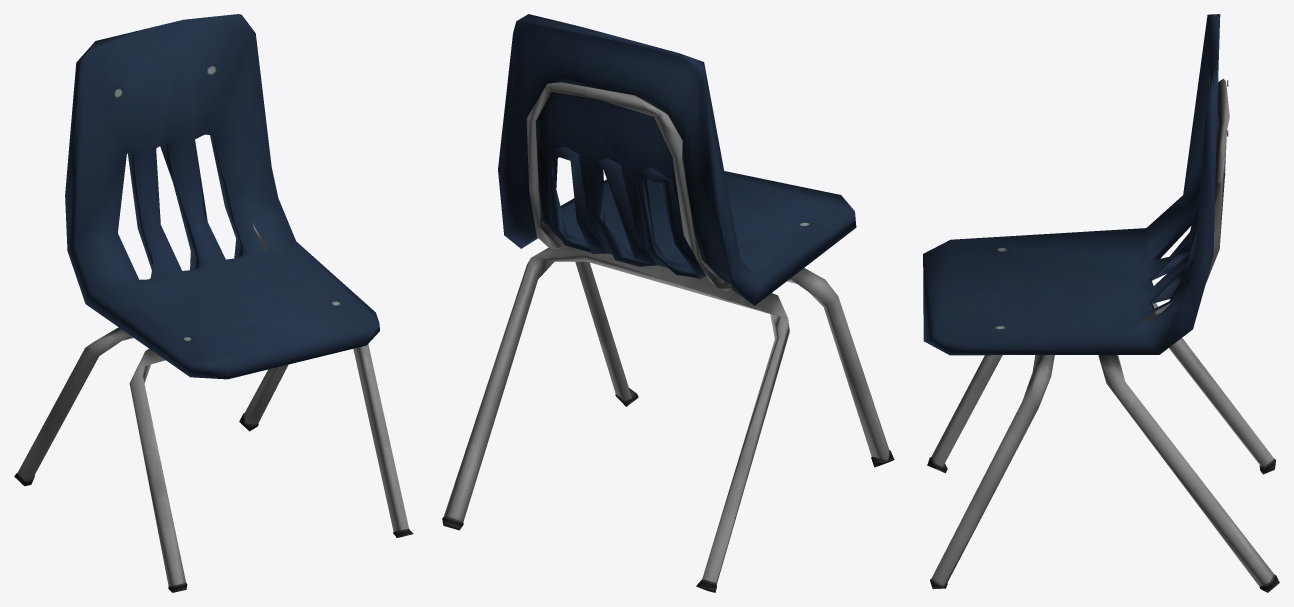
File: cafe_chair.glb
3 renders of one model, left to right at view 1: azimuth 30°, elevation 25°; view 2: azimuth 150°, elevation 25°; view 3: azimuth 270°, elevation 25°, orthographic. The views are drawn at different scales.
Visible parts, largest first — view 1: cafe_chair; view 2: cafe_chair; view 3: cafe_chair.
Boxes of the visible parts, x1,y1,x2,y2 form: cafe_chair: [14, 14, 413, 592]; cafe_chair: [442, 14, 894, 592]; cafe_chair: [923, 14, 1279, 592].
Size of the model in its own units: 0.5658 by 1 by 0.6692.
1 material, 1 textured.
